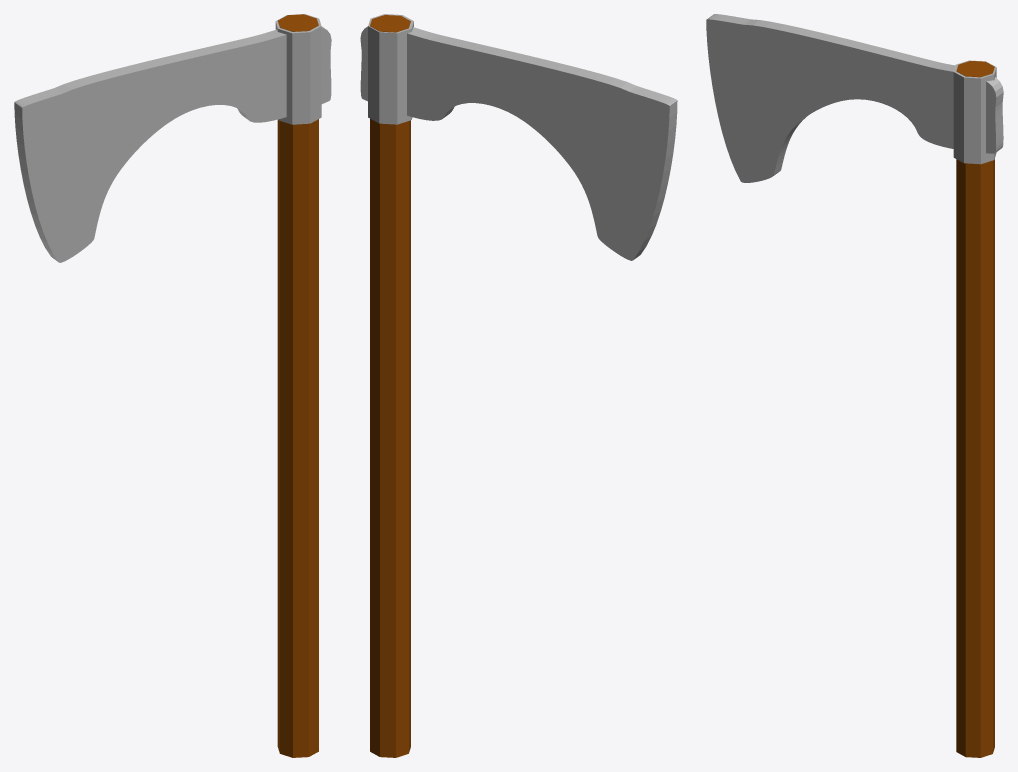
Rendered from axe.glb.
3 views of the same model, side by side, from view 1: azimuth 30°, elevation 25°; view 2: azimuth 150°, elevation 25°; view 3: azimuth 330°, elevation 25° (orthographic). The views are drawn at different scales.
Parts seen in each view (by area): view 1: BezierCurve, Cylinder, Cylinder.001; view 2: BezierCurve, Cylinder, Cylinder.001; view 3: BezierCurve, Cylinder, Cylinder.001.
Part boxes in pixels (<box>): BezierCurve: <box>14,26,331,262</box>; Cylinder: <box>277,14,318,757</box>; Cylinder.001: <box>275,14,321,124</box>; BezierCurve: <box>360,26,677,260</box>; Cylinder: <box>370,15,410,757</box>; Cylinder.001: <box>368,14,413,124</box>; BezierCurve: <box>706,14,1003,182</box>; Cylinder: <box>956,60,994,757</box>; Cylinder.001: <box>953,60,996,164</box>.
Bounding box in the file's own units: 2.08 × 4.66 × 0.2731.
